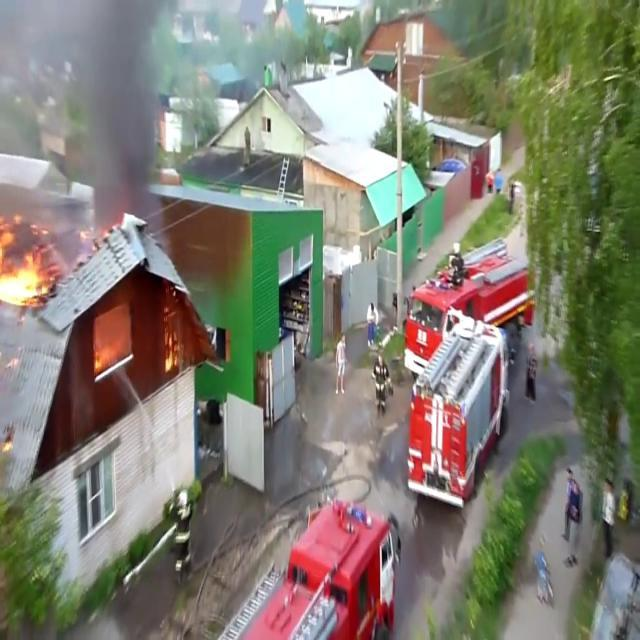Fire: (0, 216, 54, 309)
Smoke: (0, 0, 197, 221)
